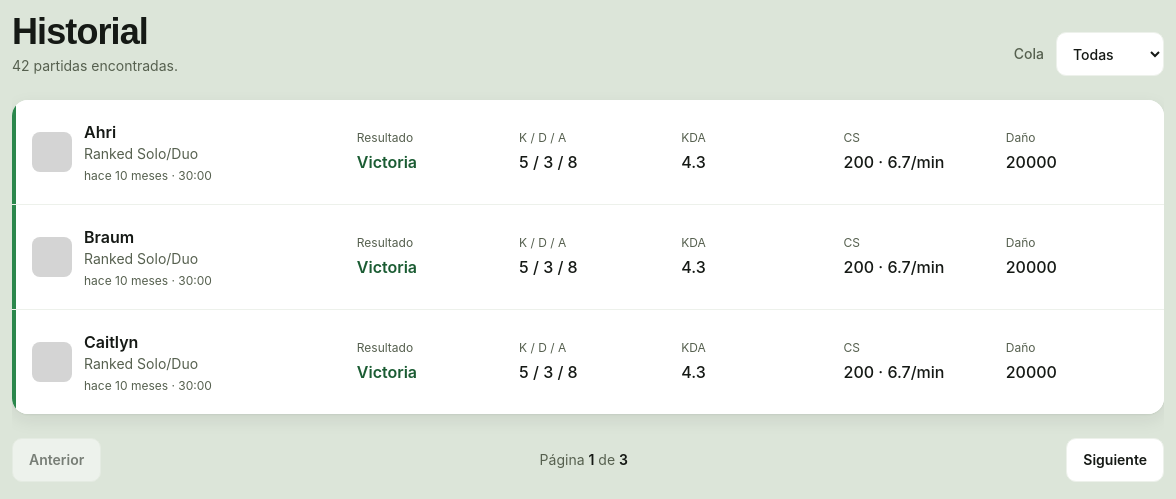
Test: MatchesView › pagination › requests page 1 only once when the queue changes from page 2
The width and height of the screenshot is (1176, 499).
Click the button "Siguiente": [1115, 460] box [1066,438,1164,482]
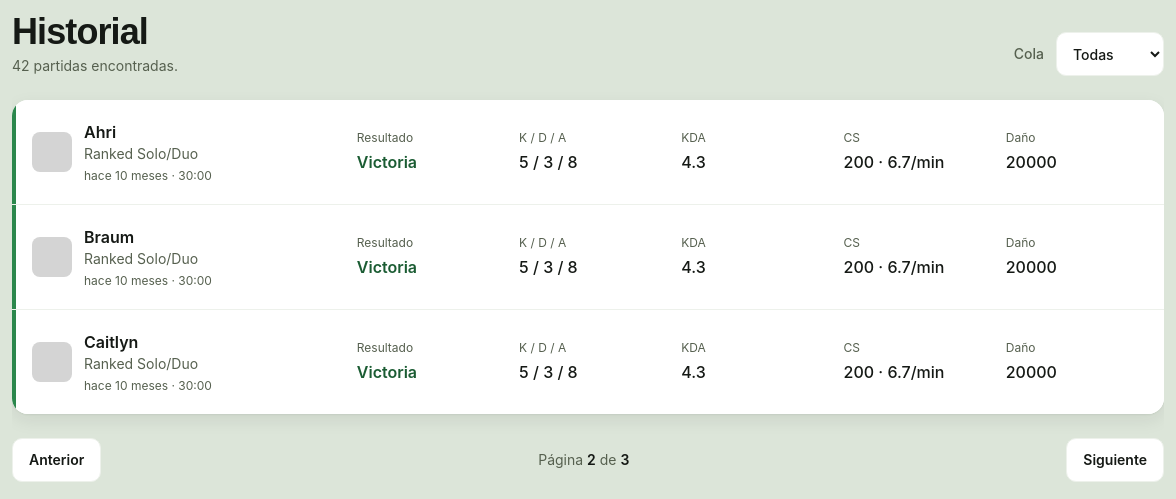
Select "ARAM" in the dropdown labelled "Cola": [1110, 54] box [1056,32,1164,76]
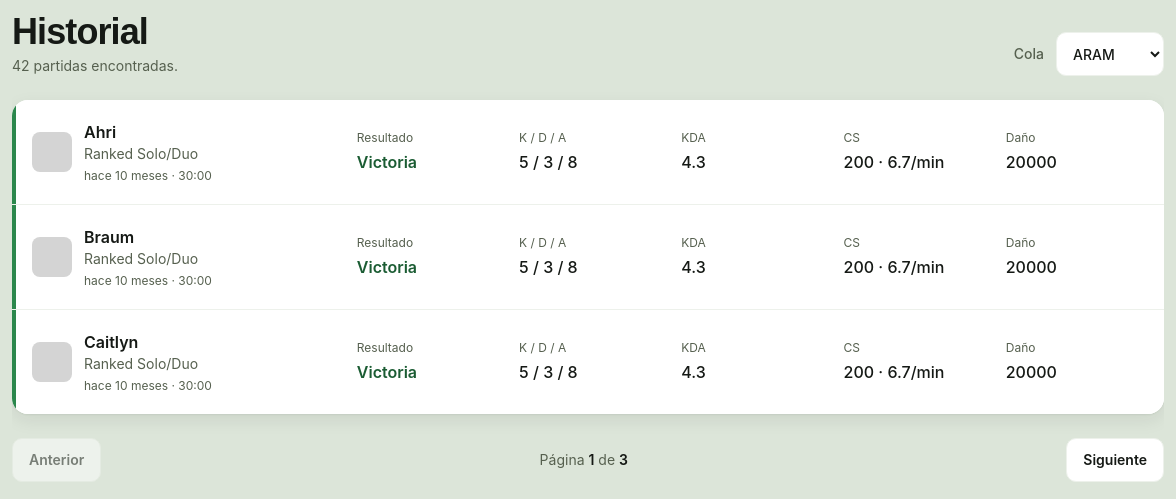
Expected: the navigation bar shows "Página 1 de 3", [12,438,1164,482]
